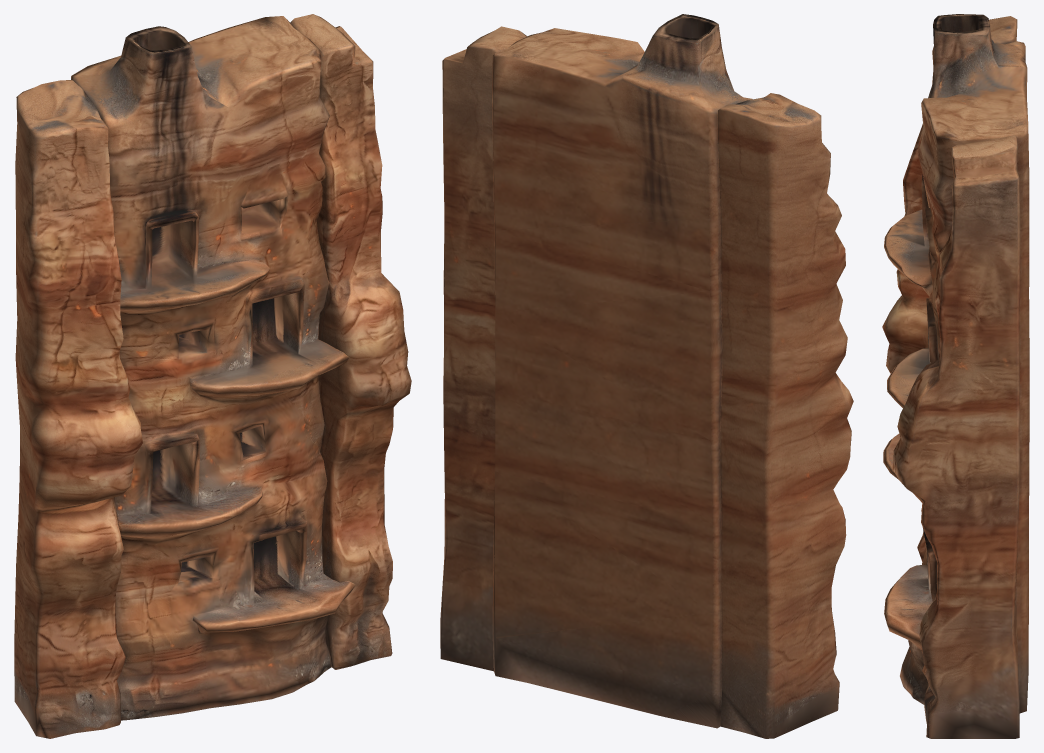
File: goblin-sand-cliff-facade-tall.glb
3 renders of one model, left to right at view 1: azimuth 30°, elevation 25°; view 2: azimuth 150°, elevation 25°; view 3: azimuth 270°, elevation 25°, orthographic. The views are drawn at different scales.
Size of the model in its own units: 0.587 by 1 by 0.2173.
1 material, 1 textured.
